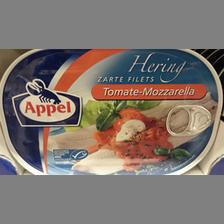Fisch: (1, 49, 221, 173)
